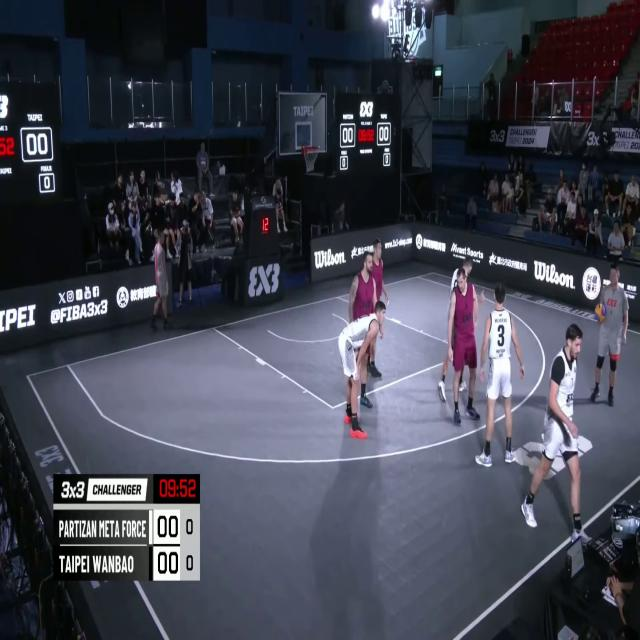ball: (593, 299, 606, 325)
hoop: (302, 142, 320, 174)
player: (522, 320, 589, 545), (472, 281, 526, 468), (338, 300, 387, 440), (434, 253, 477, 404), (448, 268, 481, 430), (362, 231, 390, 378), (350, 253, 378, 395)
